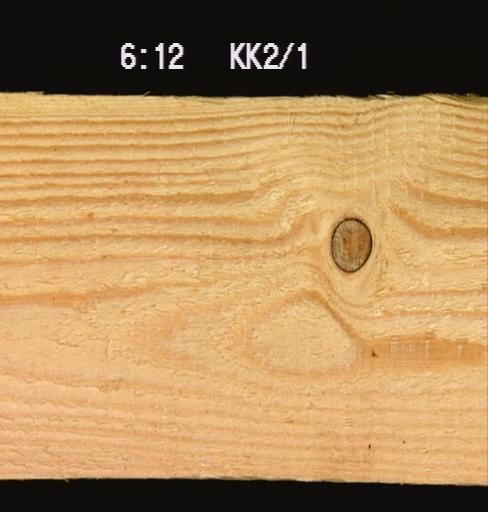dry_knot: (328, 215, 373, 272)
wave: (343, 90, 487, 106)
